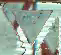Give way: (1, 1, 58, 53)
